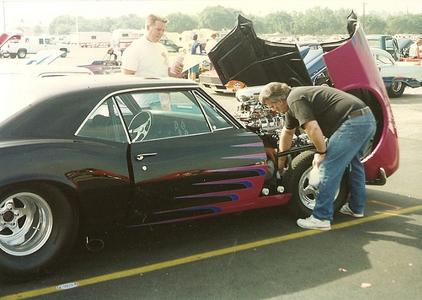person: (260, 82, 378, 232)
